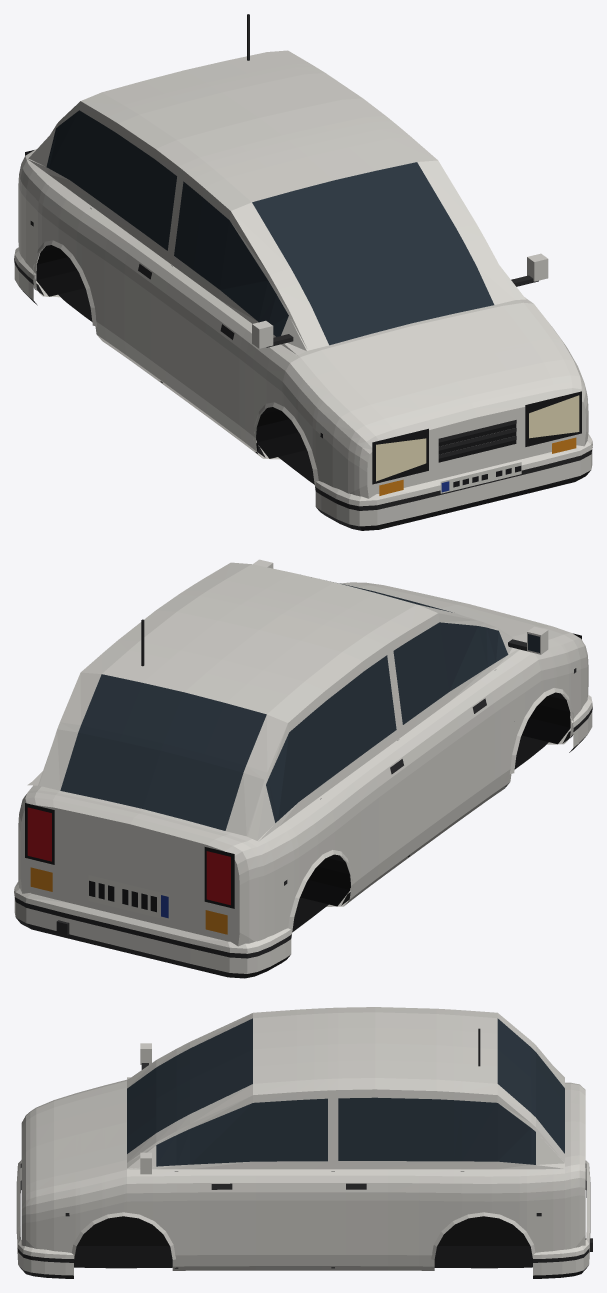
Rendered from citroen-c3.glb.
The picture shows the model from 3 angles, top to bottom: view 1: azimuth 30°, elevation 25°; view 2: azimuth 150°, elevation 25°; view 3: azimuth 270°, elevation 25°; orthographic projection. The views are drawn at different scales.
Visible parts, largest first — view 1: LOD0, door_FR, door_RR; view 2: LOD0, door_FR, door_RR; view 3: LOD0, door_FL, door_RL.
Part boxes in pixels (box(x1,y1,x2,y2)): LOD0: box(14, 14, 592, 530); door_FR: box(159, 172, 277, 449); door_RR: box(76, 114, 178, 378); LOD0: box(14, 559, 592, 978); door_FR: box(392, 613, 509, 852); door_RR: box(309, 645, 411, 898); LOD0: box(16, 1007, 592, 1278); door_FL: box(176, 1090, 331, 1266); door_RL: box(335, 1089, 462, 1266).
Size of what is drawn, in the model's own units: 1.86 by 1.67 by 3.95.
